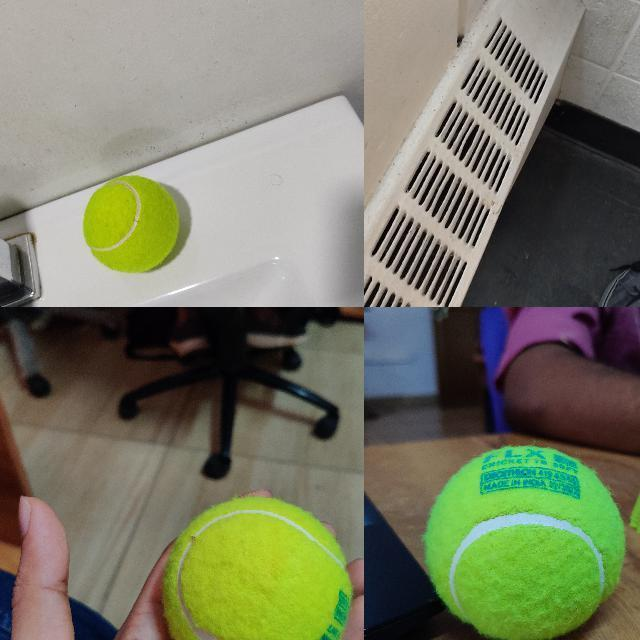tennis-ball: (426, 447, 624, 640), (163, 496, 352, 639), (82, 175, 180, 274)
